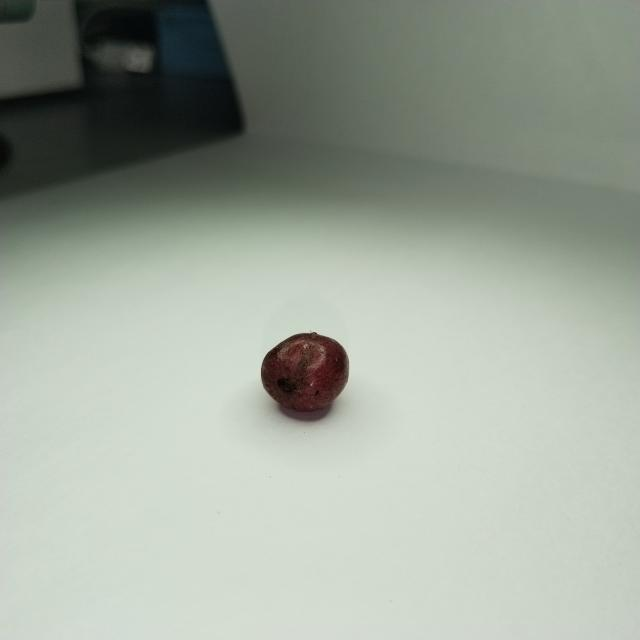Infectado: (261, 333, 350, 413)
